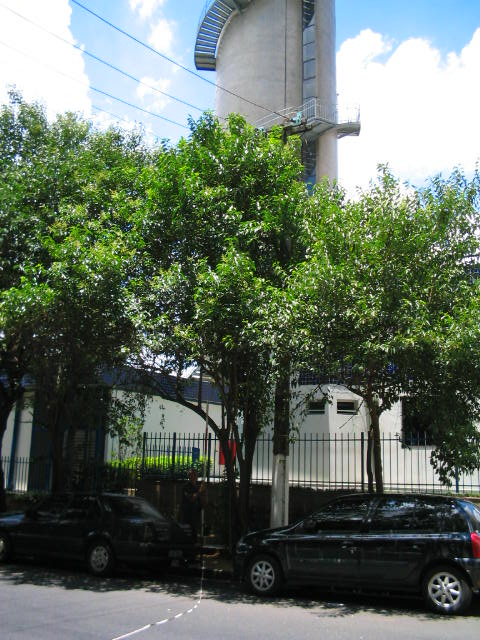crown: (82, 109, 359, 419), (249, 165, 478, 479), (3, 82, 218, 412)
stem: (35, 415, 81, 560), (363, 419, 397, 556), (222, 467, 256, 549)
stick: (195, 403, 213, 563)
tree: (79, 108, 360, 550), (1, 81, 219, 563), (247, 163, 477, 558)
